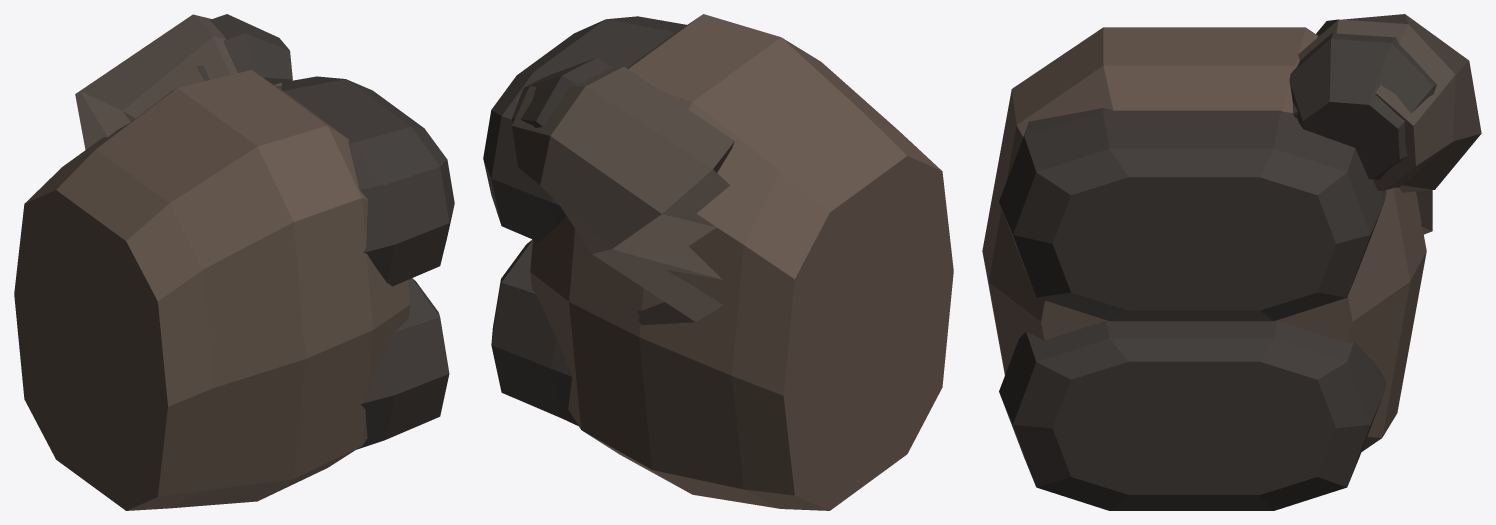
The model's file is SM_CalfFist.glb.
The picture shows the model from 3 angles, left to right: view 1: azimuth 30°, elevation 25°; view 2: azimuth 150°, elevation 25°; view 3: azimuth 270°, elevation 25°; orthographic projection. The views are drawn at different scales.
Parts seen in each view (by area): view 1: SM_CalfFist; view 2: SM_CalfFist; view 3: SM_CalfFist.
Part boxes in pixels (x1,y1,x2,y2): SM_CalfFist: (14, 14, 454, 510); SM_CalfFist: (483, 14, 953, 510); SM_CalfFist: (982, 14, 1481, 510).
Size of the model in its own units: 0.8154 by 1 by 0.9321.
